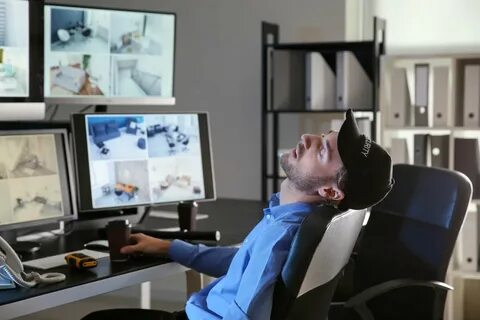sleep: (177, 126, 395, 320)
